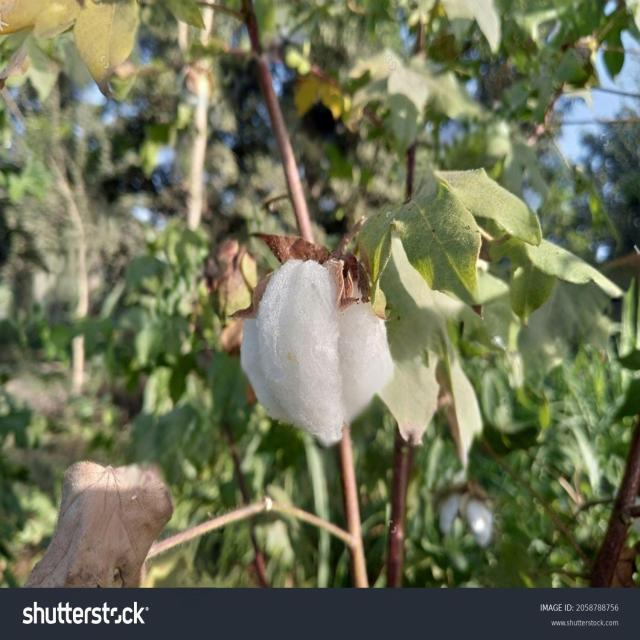Leaf: (215, 221, 407, 461)
